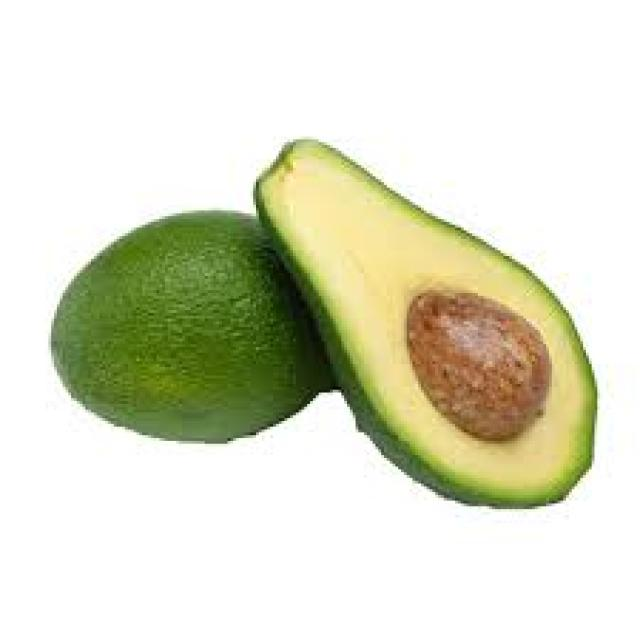avocado: (247, 125, 637, 537), (40, 179, 318, 467)
